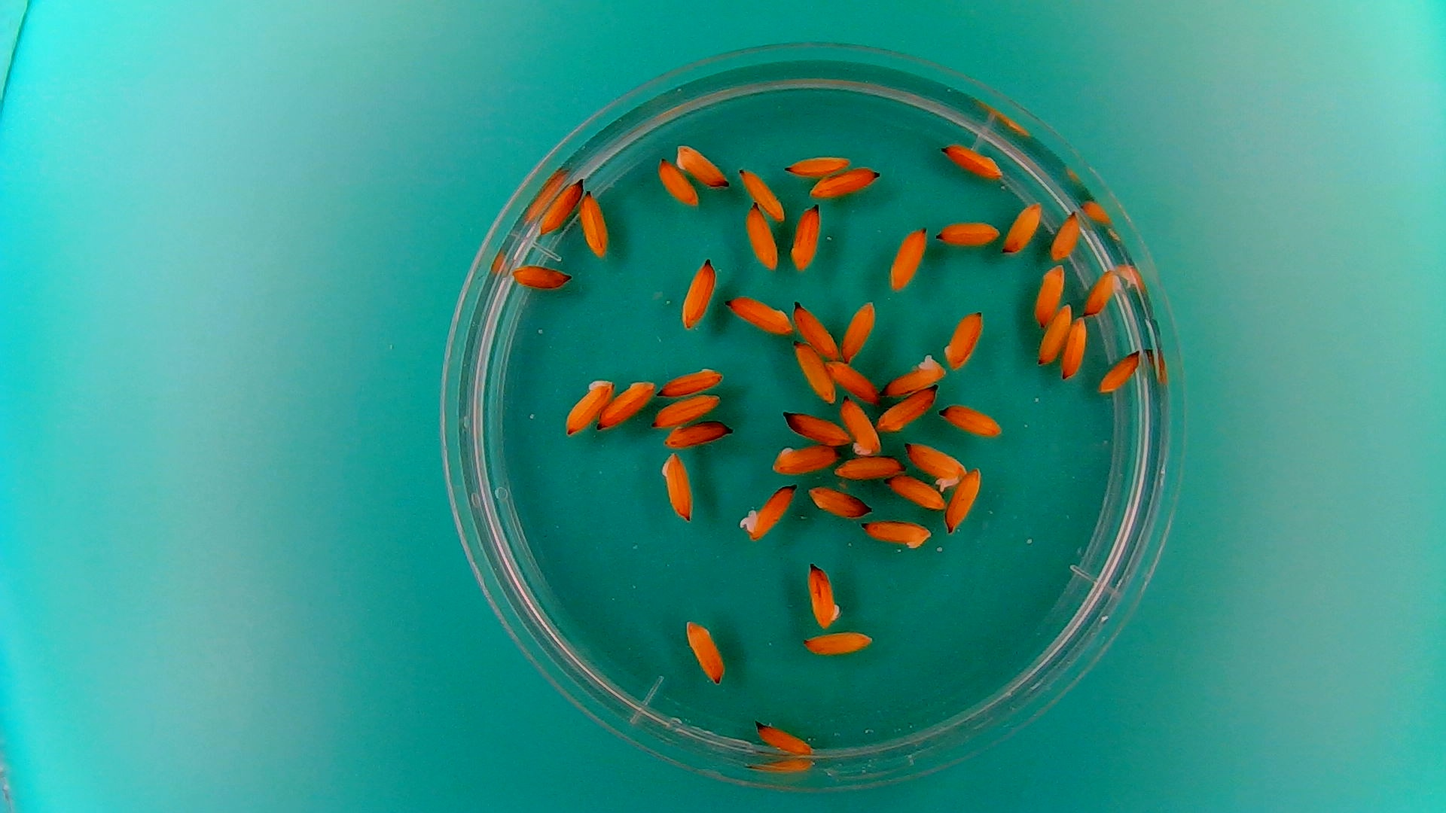no: (560, 373, 615, 437), (596, 375, 656, 433), (873, 385, 939, 435), (682, 616, 728, 687), (880, 352, 948, 398), (944, 463, 986, 536), (778, 408, 853, 448), (792, 299, 840, 361), (679, 254, 718, 330), (657, 449, 696, 525), (724, 293, 794, 335), (792, 340, 837, 404), (536, 177, 584, 236), (839, 394, 883, 458), (804, 559, 844, 629), (737, 166, 786, 223), (939, 139, 1005, 181), (651, 391, 722, 430), (886, 225, 927, 292), (859, 515, 933, 552), (823, 358, 881, 405), (942, 308, 985, 371), (809, 163, 882, 200), (743, 202, 780, 273), (660, 416, 735, 451), (675, 141, 728, 190), (1001, 198, 1045, 257), (768, 441, 840, 477), (653, 154, 700, 209), (937, 401, 1005, 439), (840, 297, 878, 365), (752, 717, 816, 757), (576, 187, 611, 260), (805, 483, 873, 520), (1036, 301, 1074, 366), (800, 627, 877, 659), (656, 362, 726, 397), (885, 473, 946, 513), (789, 202, 822, 272), (1033, 262, 1067, 329), (831, 451, 905, 481), (1082, 266, 1124, 317), (934, 216, 1001, 247), (1097, 348, 1142, 394), (782, 150, 853, 178), (510, 260, 574, 291), (1059, 315, 1089, 381), (1048, 209, 1082, 263)
yes: (737, 481, 798, 544), (902, 437, 968, 490)
